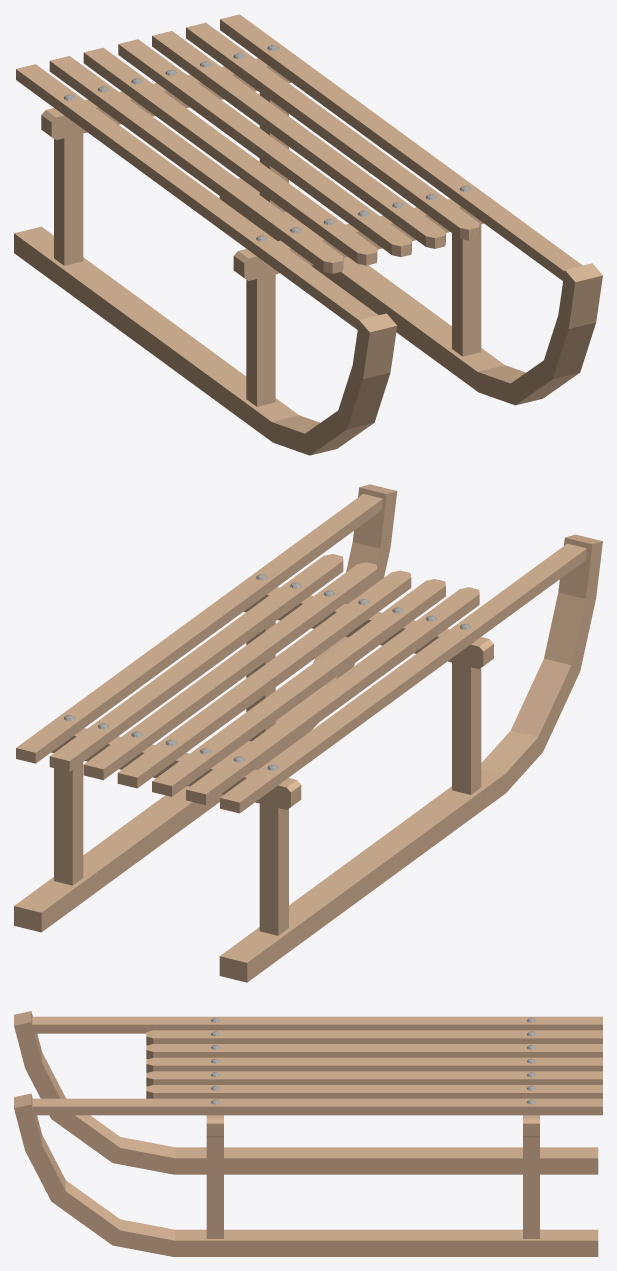
File: sled.gltf
The picture shows the model from 3 angles, top to bottom: view 1: azimuth 30°, elevation 25°; view 2: azimuth 150°, elevation 25°; view 3: azimuth 270°, elevation 25°; orthographic projection. The views are drawn at different scales.
Parts seen in each view (by area): view 1: node-0; view 2: node-0; view 3: node-0.
Boxes of the visible parts, x1=… form: node-0: x1=14, y1=14, x2=602, y2=455; node-0: x1=14, y1=484, x2=602, y2=982; node-0: x1=14, y1=1011, x2=602, y2=1256.
Bounding box in the file's own units: 39.31 × 27.94 × 97.81.
Materials: 1 (1 with a texture image).
